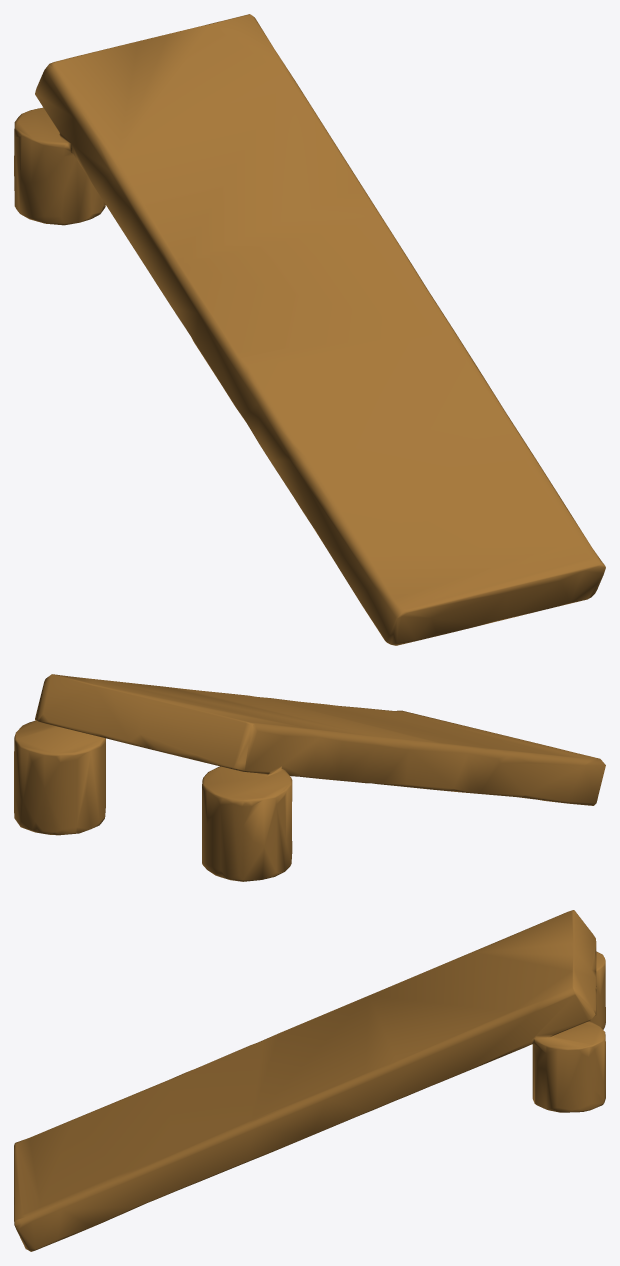
The model's file is gen3d-ramp-lod1.glb.
3 views of the same model, one above another, from view 1: azimuth 30°, elevation 25°; view 2: azimuth 150°, elevation 25°; view 3: azimuth 270°, elevation 25° (orthographic). The views are drawn at different scales.
Parts seen in each view (by area): view 1: part_0; view 2: part_0; view 3: part_0.
Boxes of the visible parts, bbox=[...] form: part_0: bbox=[14, 14, 605, 645]; part_0: bbox=[14, 674, 605, 881]; part_0: bbox=[14, 910, 605, 1251].
Size of the model in its own units: 0.8359 by 1 by 2.02.
